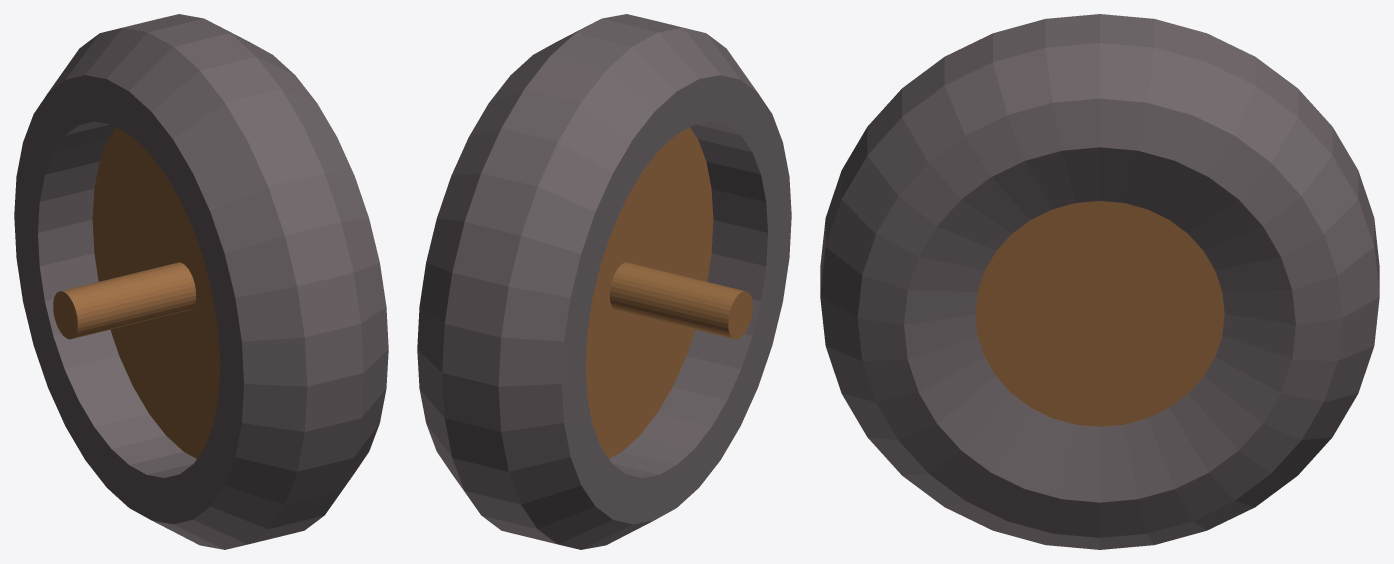
Rendered from ruedaIzq.obj.
3 renders of one model, left to right at view 1: azimuth 30°, elevation 25°; view 2: azimuth 150°, elevation 25°; view 3: azimuth 270°, elevation 25°, orthographic. The views are drawn at different scales.
Parts seen in each view (by area): view 1: rueda_Cylinder; view 2: rueda_Cylinder; view 3: rueda_Cylinder.
Boxes of the visible parts, x1=… form: rueda_Cylinder: x1=14, y1=14, x2=388, y2=549; rueda_Cylinder: x1=417, y1=14, x2=791, y2=549; rueda_Cylinder: x1=820, y1=14, x2=1379, y2=549.
Bounding box in the file's own units: 1.11 × 2.32 × 2.32.
Materials: 1 (1 with a texture image).
